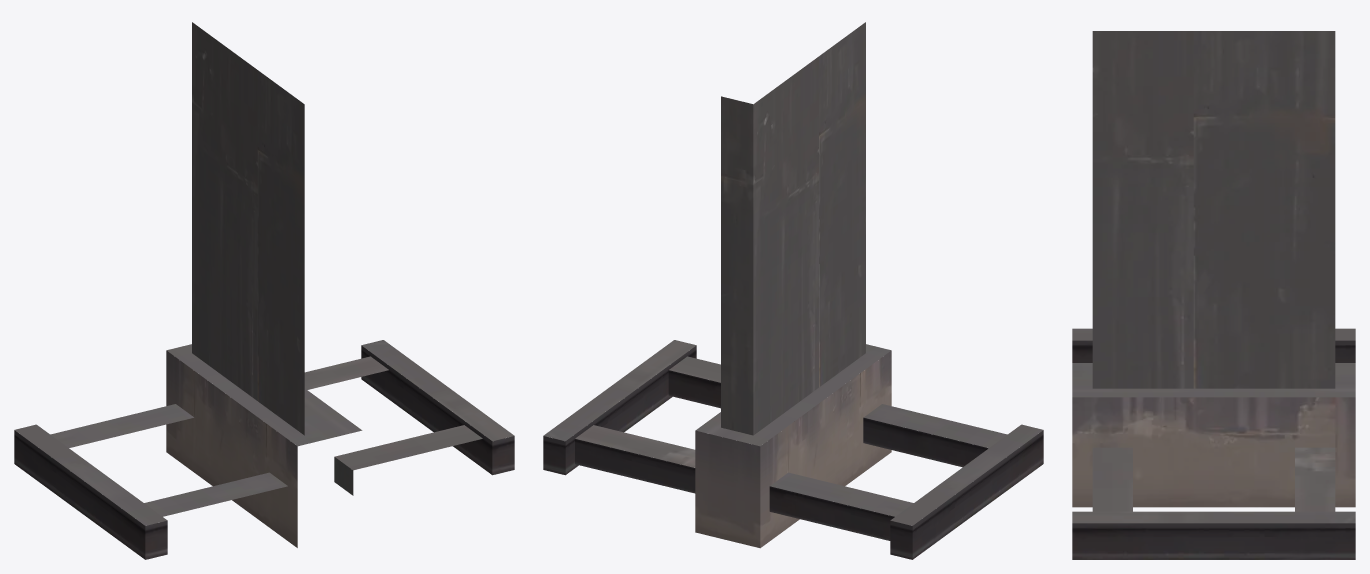
3 views of the same model, side by side, from view 1: azimuth 30°, elevation 25°; view 2: azimuth 150°, elevation 25°; view 3: azimuth 270°, elevation 25° (orthographic). The views are drawn at different scales.
Visible parts, largest first — view 1: body0_model0_lod0_mesh2, body0_model0_lod0_mesh3, body0_model0_lod0_mesh0; view 2: body0_model0_lod0_mesh2, body0_model0_lod0_mesh0, body0_model0_lod0_mesh3; view 3: body0_model0_lod0_mesh2, body0_model0_lod0_mesh3, body0_model0_lod0_mesh0.
Boxes of the visible parts, x1,y1,x2,y2 form: body0_model0_lod0_mesh2: (14, 22, 514, 525); body0_model0_lod0_mesh3: (166, 350, 297, 547); body0_model0_lod0_mesh0: (14, 345, 514, 559); body0_model0_lod0_mesh2: (543, 22, 1043, 525); body0_model0_lod0_mesh0: (543, 345, 1043, 559); body0_model0_lod0_mesh3: (695, 350, 891, 548); body0_model0_lod0_mesh2: (1072, 31, 1355, 523); body0_model0_lod0_mesh3: (1072, 397, 1355, 507); body0_model0_lod0_mesh0: (1072, 340, 1355, 559).
Size of the model in its own units: 182 by 204 by 112.
Materials: 4 (4 with a texture image).
